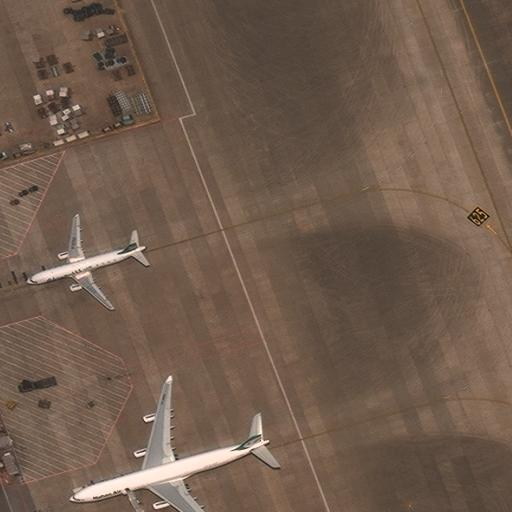Large Civil Transport: (68, 383, 270, 511)
Medium Civil Transport: (26, 217, 146, 310)
